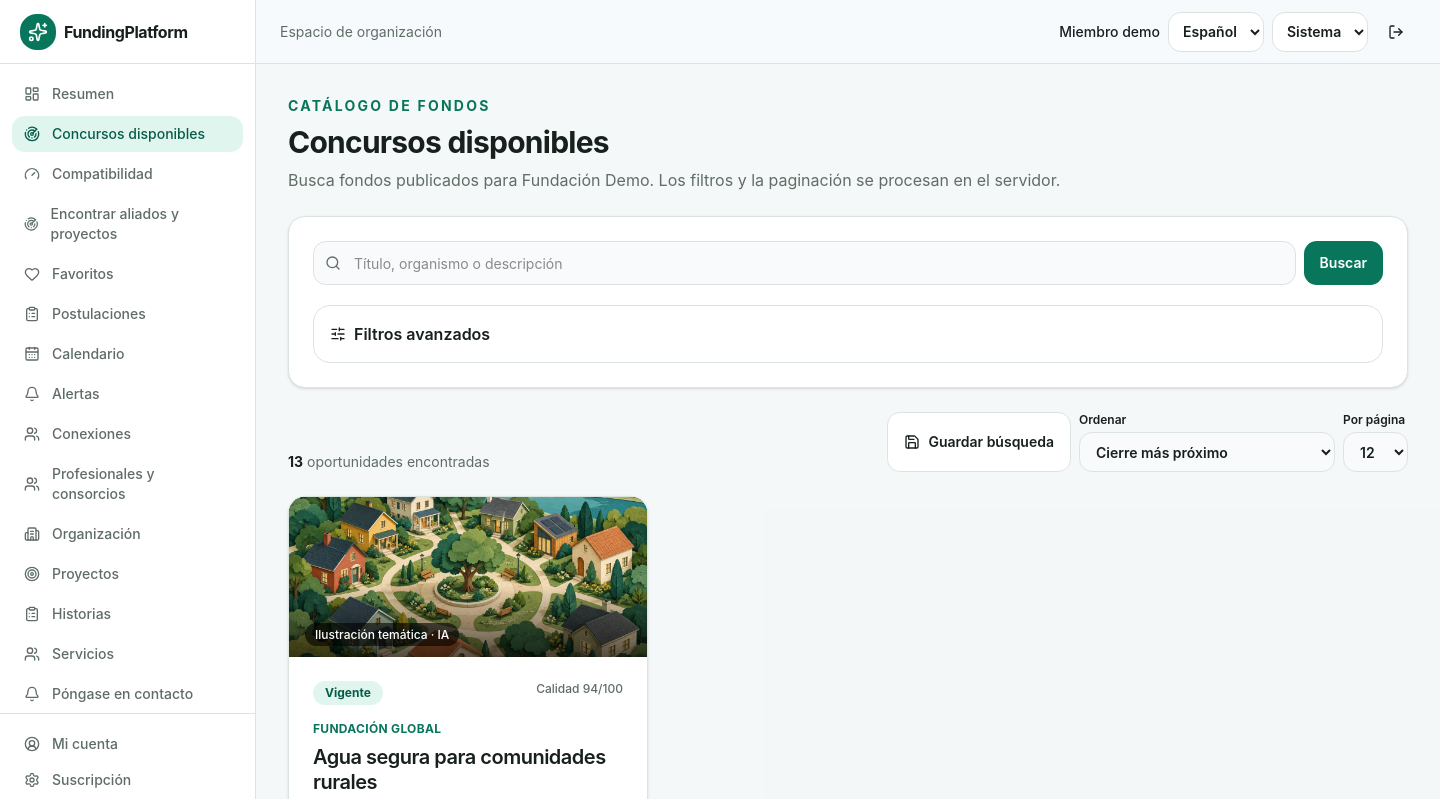
Test: oportunidades de la organización › bloquea orden por monto sin moneda y pagina mediante una nueva consulta
The image size is (1440, 799).
Expected: the heading "Agua segura para comunidades rurales" is shown, [313,745,623,795]
Select "Monto máximo: mayor a menor" in the dropdown labelled "Ordenar" at (1207, 452), box [1079,432,1335,472]
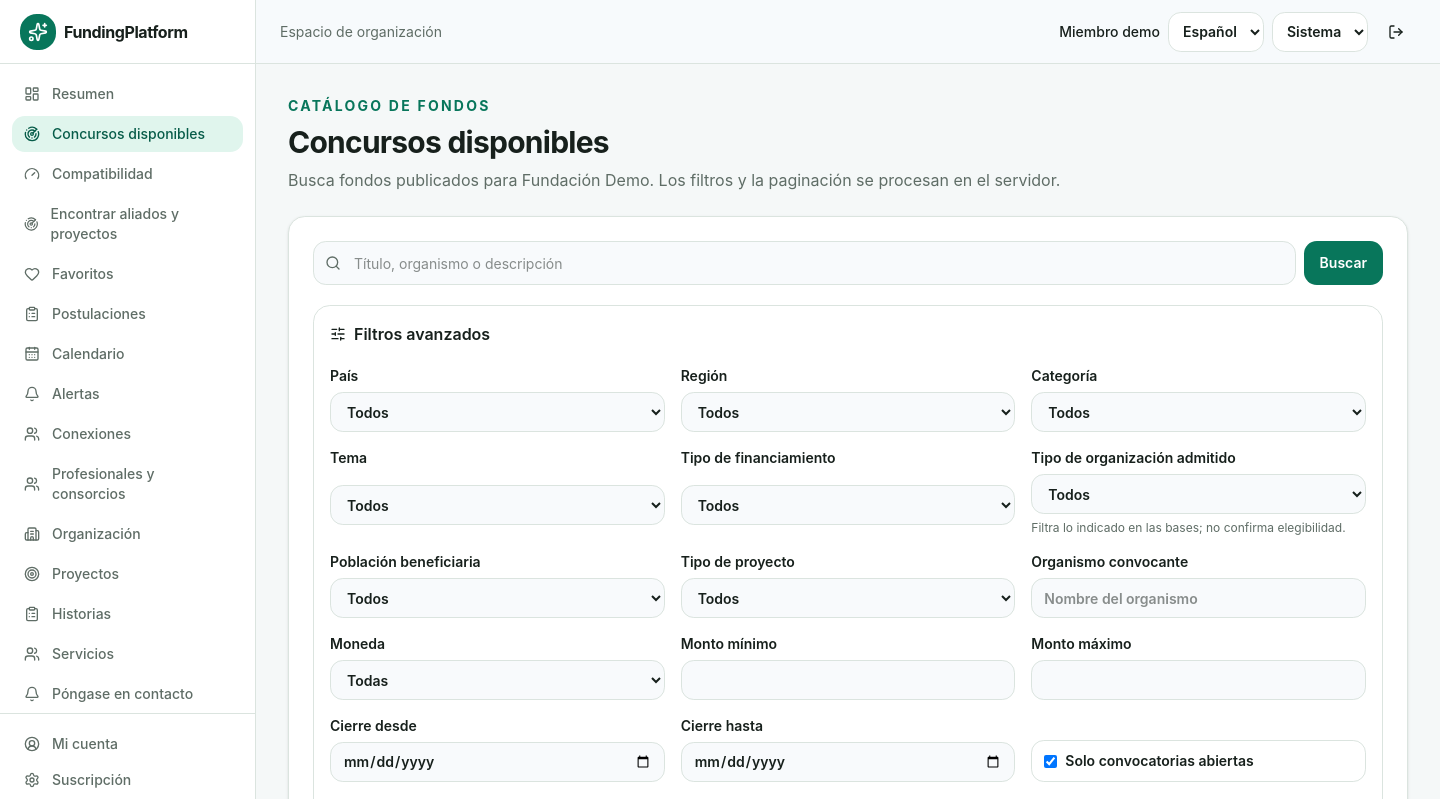
Select "USD · Dólar estadounidense" in the dropdown labelled "Moneda" at (497, 680), box [330,660,665,700]
(page scrolled)
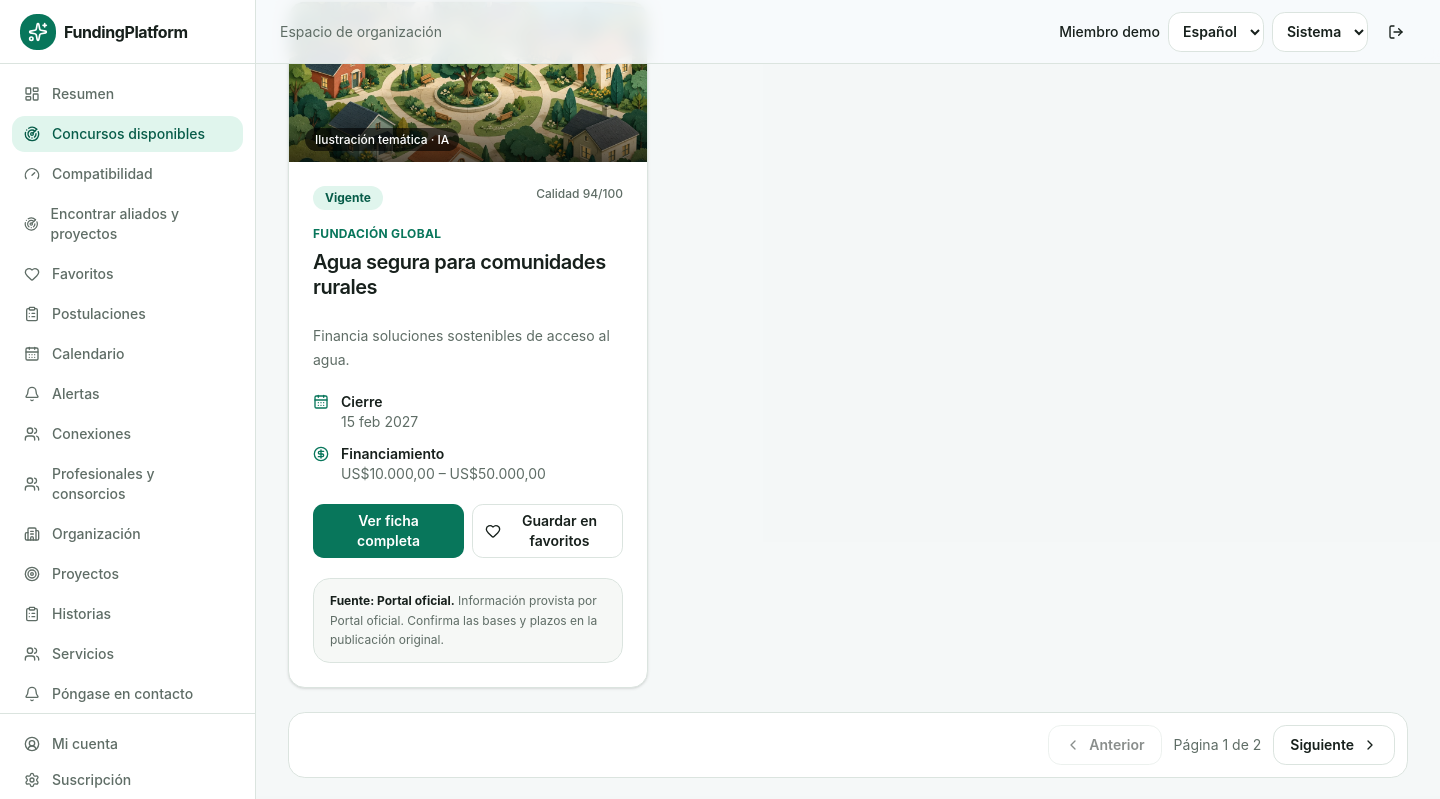
Click the button "Siguiente" at (1334, 744), box [1273,724,1395,764]
(page scrolled)
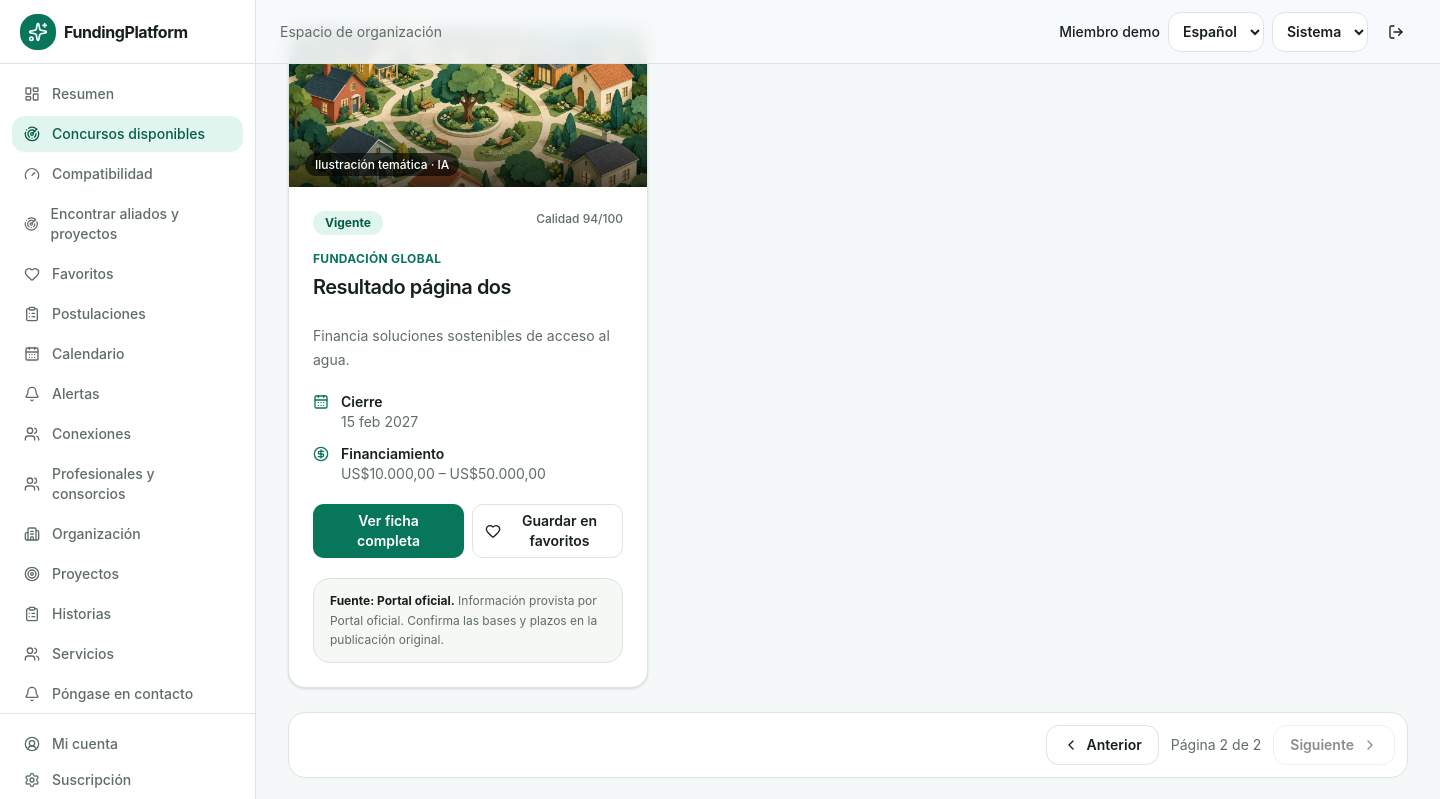
Expected: the heading "Resultado página dos" is shown, [313,275,511,299]
